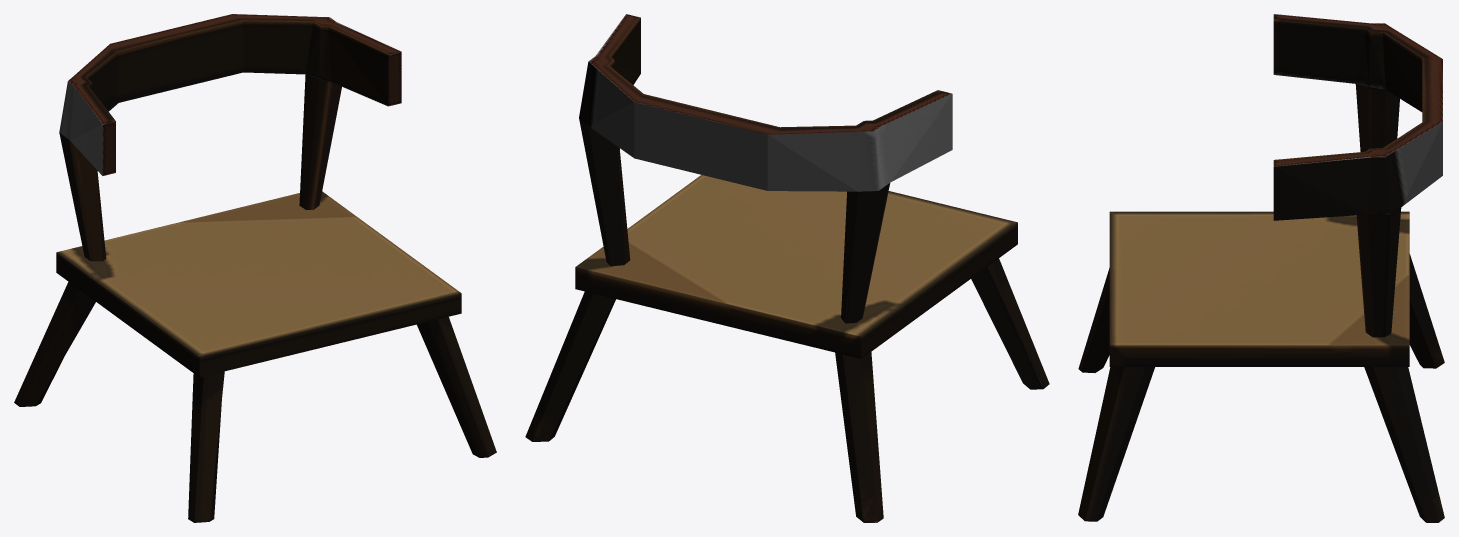
File: Tx_prop_small_chair_6.fbx
3 renders of one model, left to right at view 1: azimuth 30°, elevation 25°; view 2: azimuth 150°, elevation 25°; view 3: azimuth 270°, elevation 25°, orthographic. The views are drawn at different scales.
Visible parts, largest first — view 1: polySurface57, polySurface52, polySurface53, polySurface54, polySurface51, polySurface55, polySurface50; view 2: polySurface57, polySurface52, polySurface55, polySurface56, polySurface50, polySurface51, polySurface53; view 3: polySurface57, polySurface52, polySurface54, polySurface56, polySurface51, polySurface50, polySurface55, polySurface53.
Boxes of the visible parts, x1,y1,x2,y2 form: polySurface57: (56,191,461,377); polySurface52: (59,14,401,175); polySurface53: (188,371,224,522); polySurface54: (417,317,496,457); polySurface51: (299,74,341,209); polySurface55: (14,282,95,406); polySurface50: (59,133,106,261); polySurface57: (575,175,1017,358); polySurface52: (579,14,952,191); polySurface55: (835,352,883,522); polySurface56: (525,291,615,441); polySurface50: (841,183,890,323); polySurface51: (579,118,630,266); polySurface53: (971,258,1049,389); polySurface57: (1109,211,1409,366); polySurface52: (1273,14,1442,220); polySurface54: (1078,367,1154,521); polySurface56: (1364,367,1444,522); polySurface51: (1356,208,1401,337); polySurface50: (1355,84,1399,151); polySurface55: (1409,254,1444,368); polySurface53: (1078,268,1109,372).
Size of the model in its own units: 3.26 by 3.25 by 3.06.
